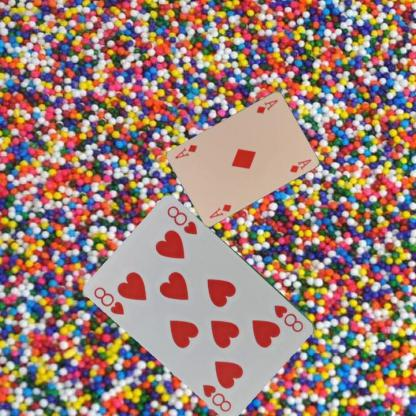8h: (92, 284, 127, 316), (272, 302, 305, 334)
Ad: (207, 201, 233, 220), (254, 96, 279, 115)
